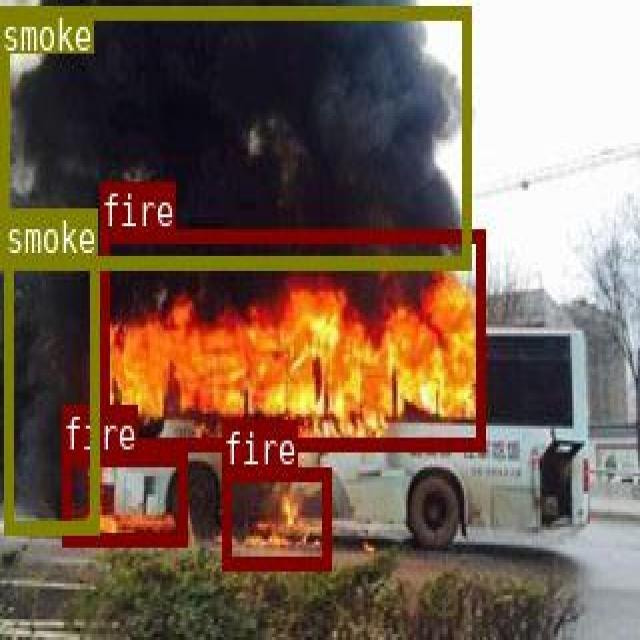fire: (99, 228, 484, 448), (61, 451, 185, 542), (221, 465, 329, 567)
smoke: (0, 6, 470, 268), (4, 255, 98, 531)
